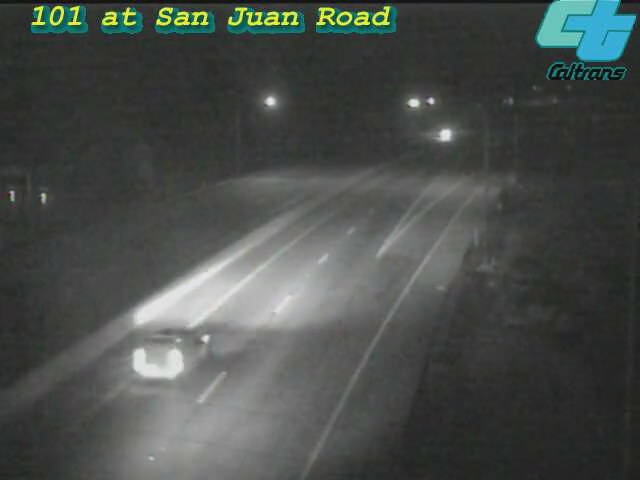vehicle: (113, 297, 223, 407), (422, 109, 472, 159)
